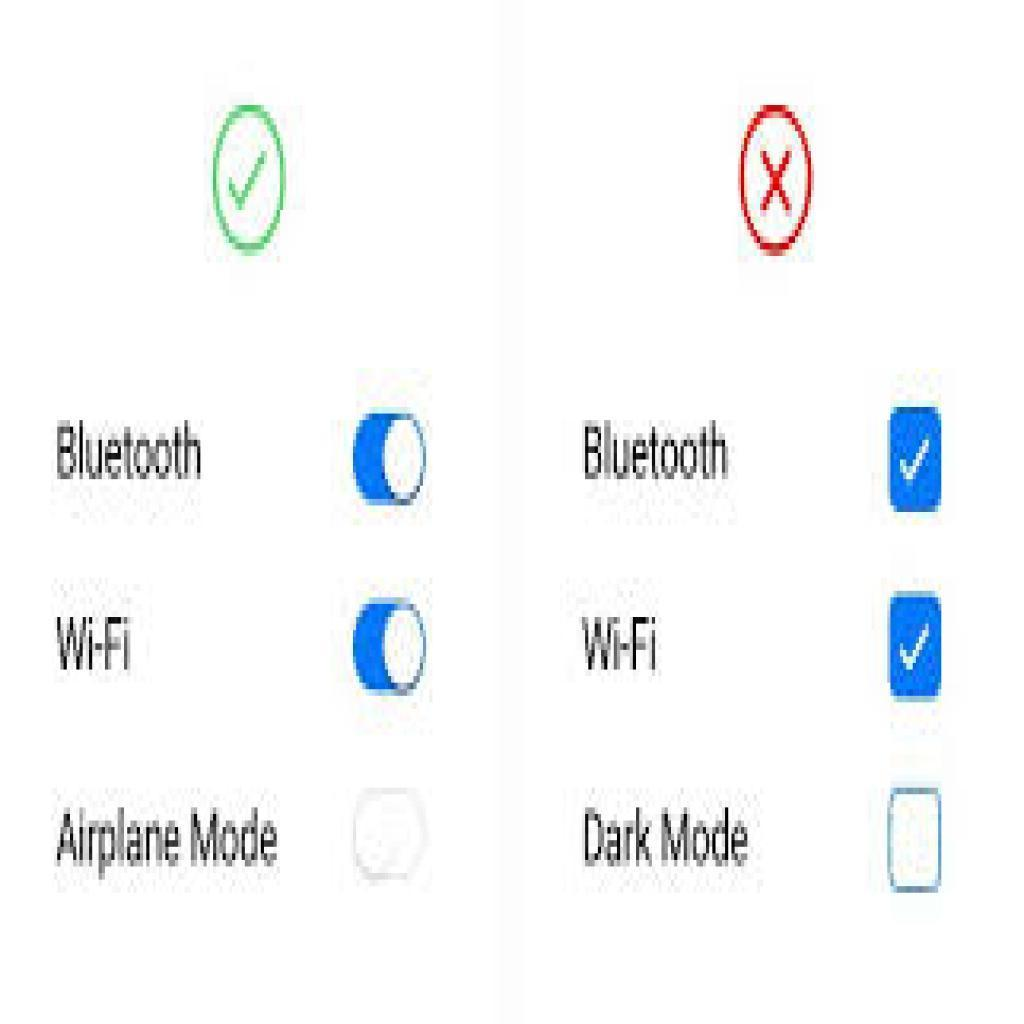checkbox: (888, 594, 948, 701), (888, 791, 943, 896), (892, 408, 943, 515)
switch: (351, 786, 434, 893), (355, 412, 431, 506), (355, 598, 425, 698)
